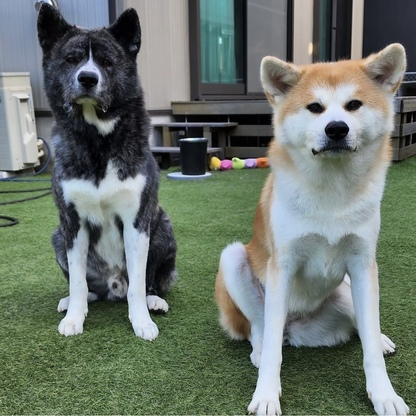akita: (210, 40, 415, 416), (30, 1, 184, 346)
